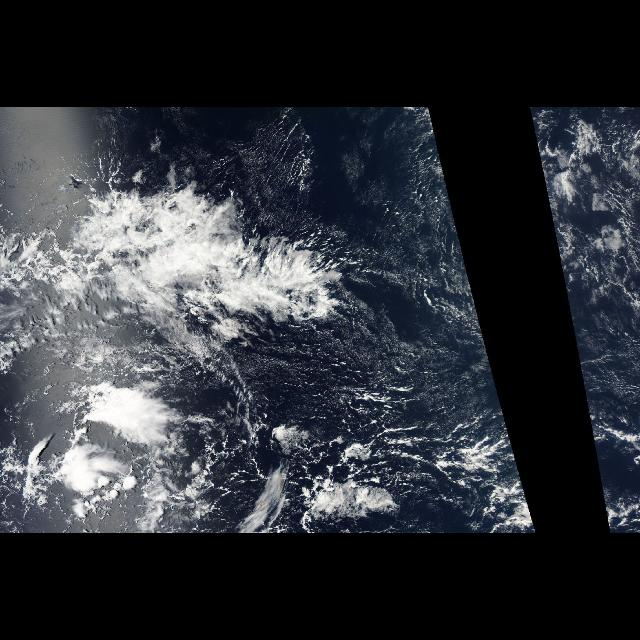Gravel: (206, 383, 502, 502)
Sugar: (247, 135, 508, 429)
